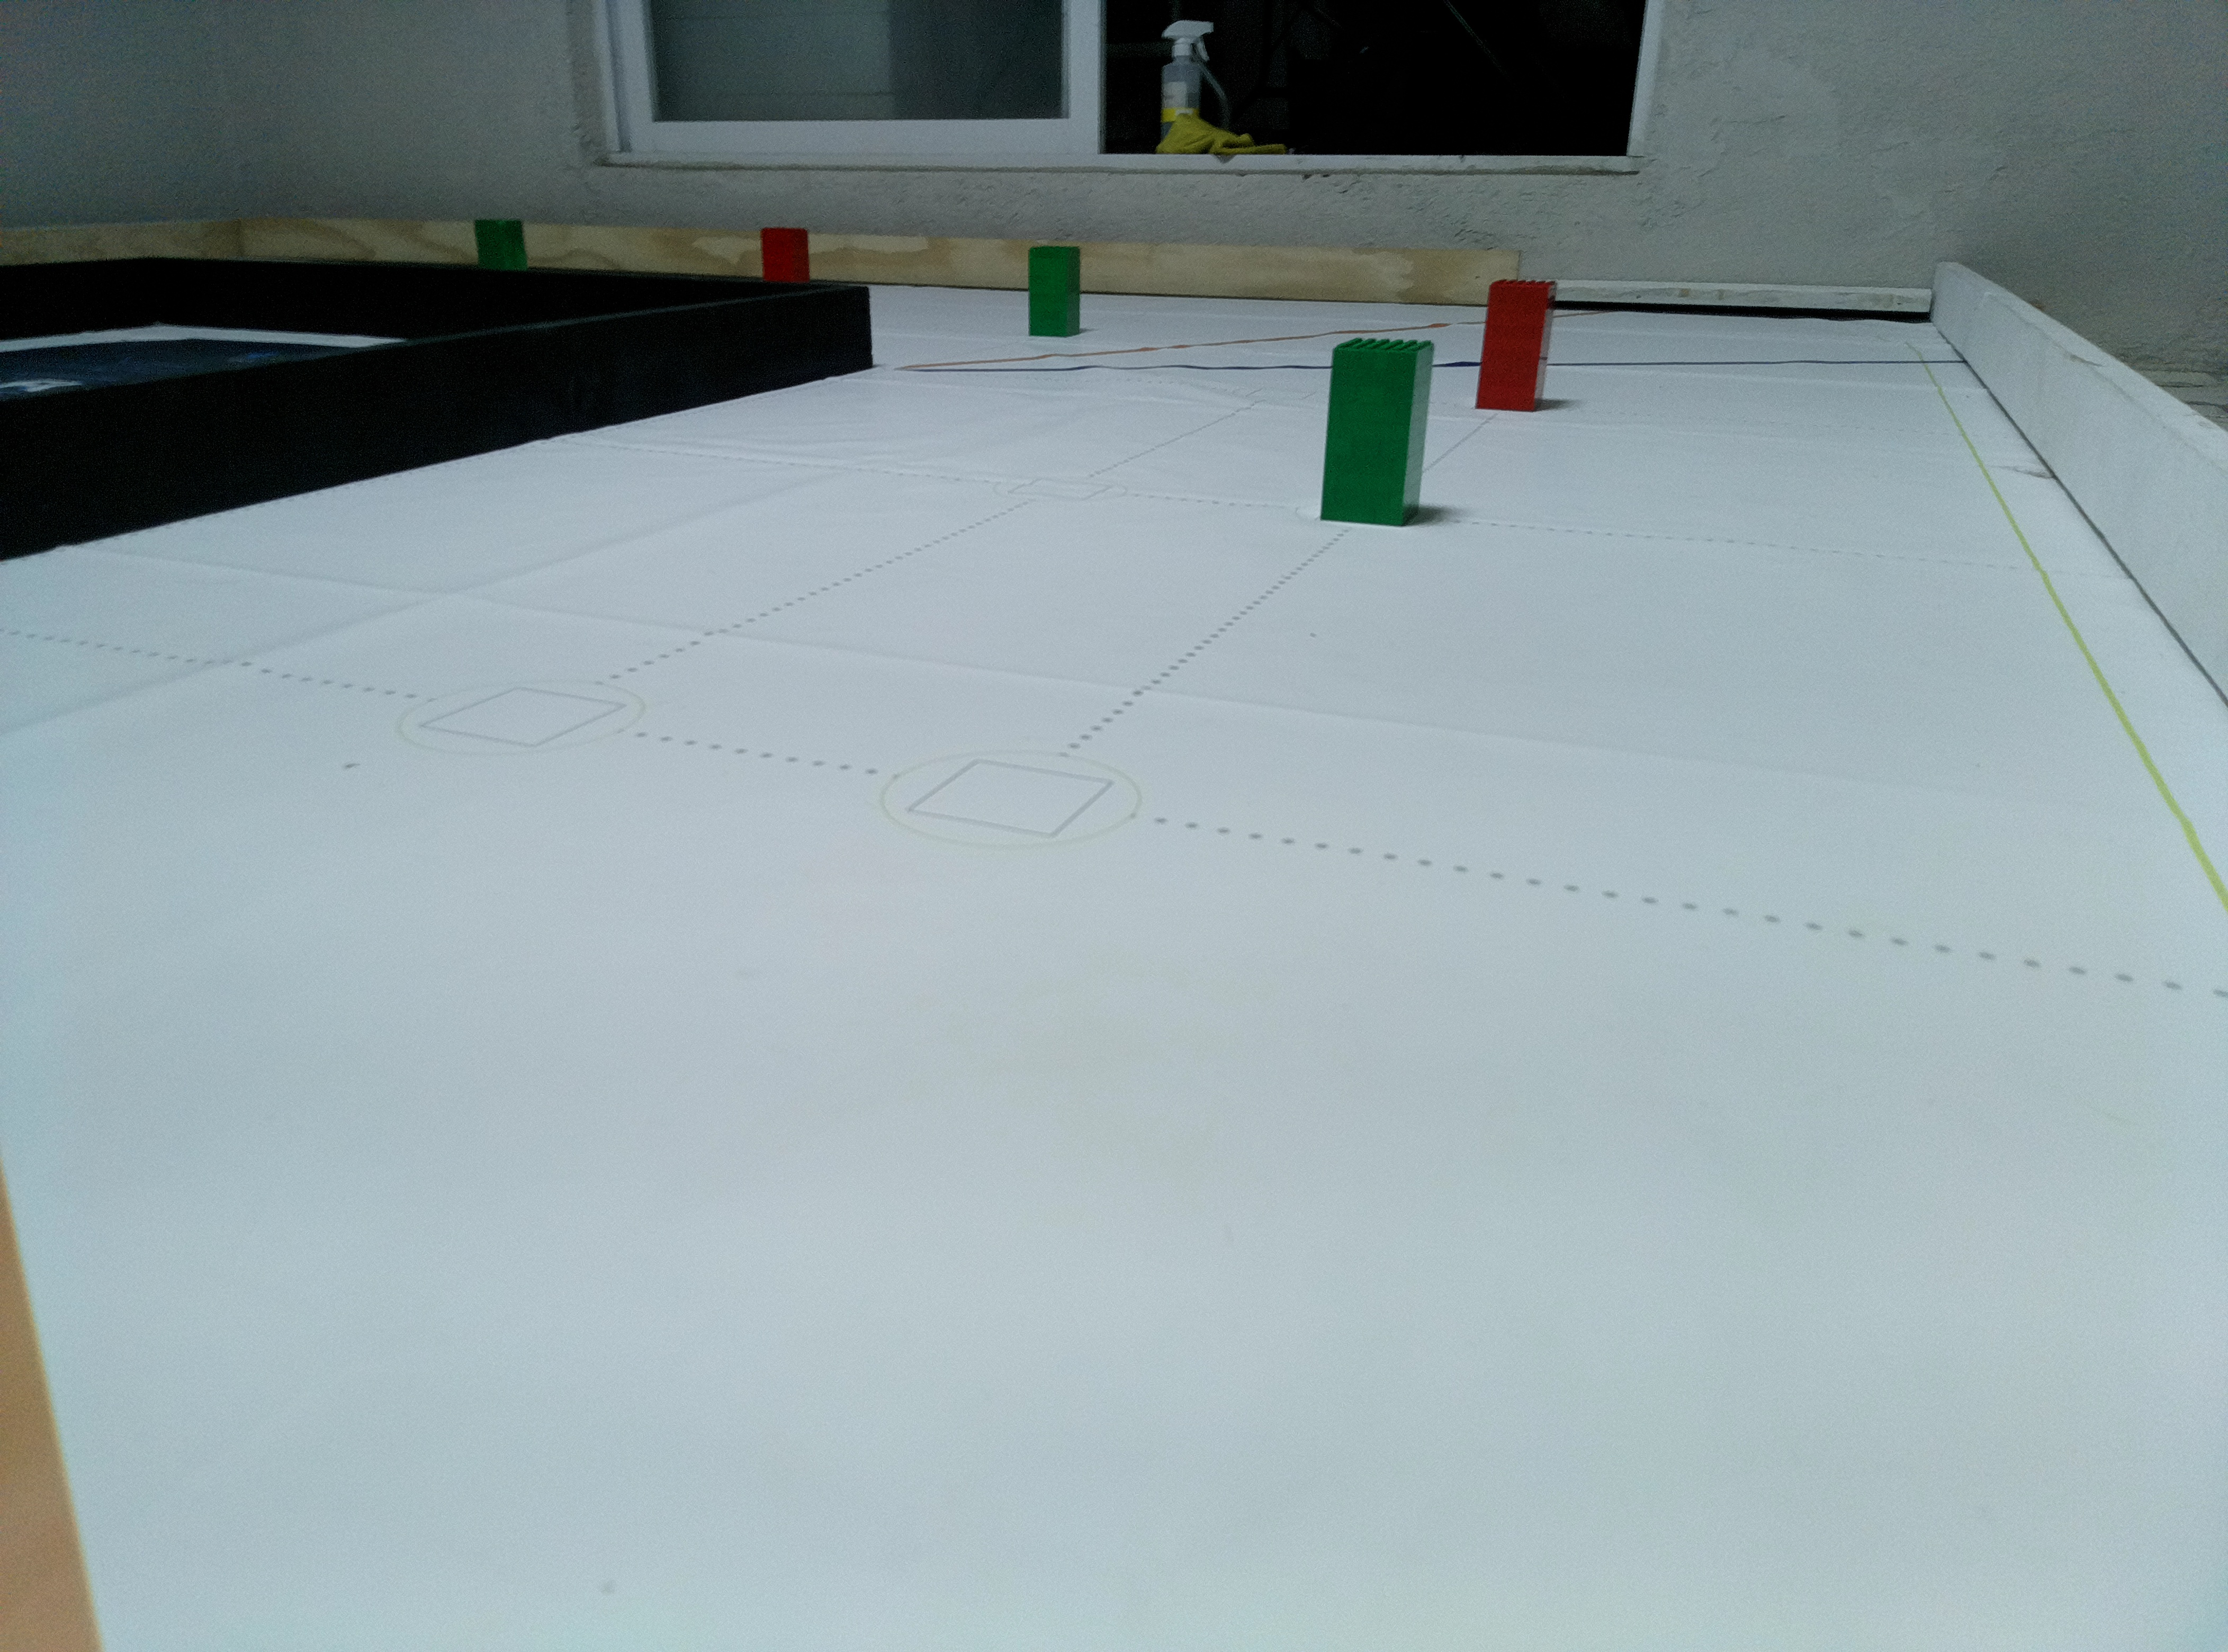greenbox: (1317, 338, 1438, 528), (1027, 245, 1083, 338), (472, 217, 533, 271)
redbox: (1473, 279, 1560, 413), (758, 226, 814, 281)
